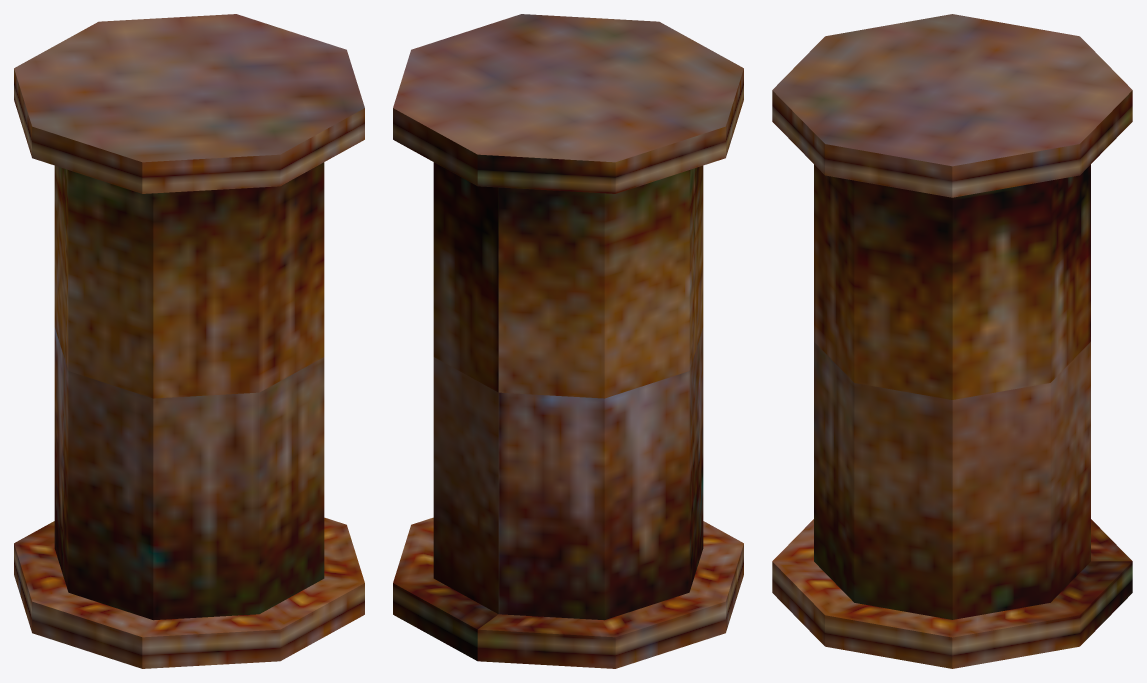
The model's file is MO_PIPE_BASE_02.fbx.
3 renders of one model, left to right at view 1: azimuth 30°, elevation 25°; view 2: azimuth 150°, elevation 25°; view 3: azimuth 270°, elevation 25°, orthographic.
Visible parts, largest first — view 1: MO_PIPE_BASE_02; view 2: MO_PIPE_BASE_02; view 3: MO_PIPE_BASE_02.
Boxes of the visible parts, x1,y1,x2,y2 form: MO_PIPE_BASE_02: (14, 14, 364, 668); MO_PIPE_BASE_02: (393, 14, 743, 668); MO_PIPE_BASE_02: (772, 14, 1132, 668).
Bounding box in the file's own units: 1.3 × 2 × 1.3.
